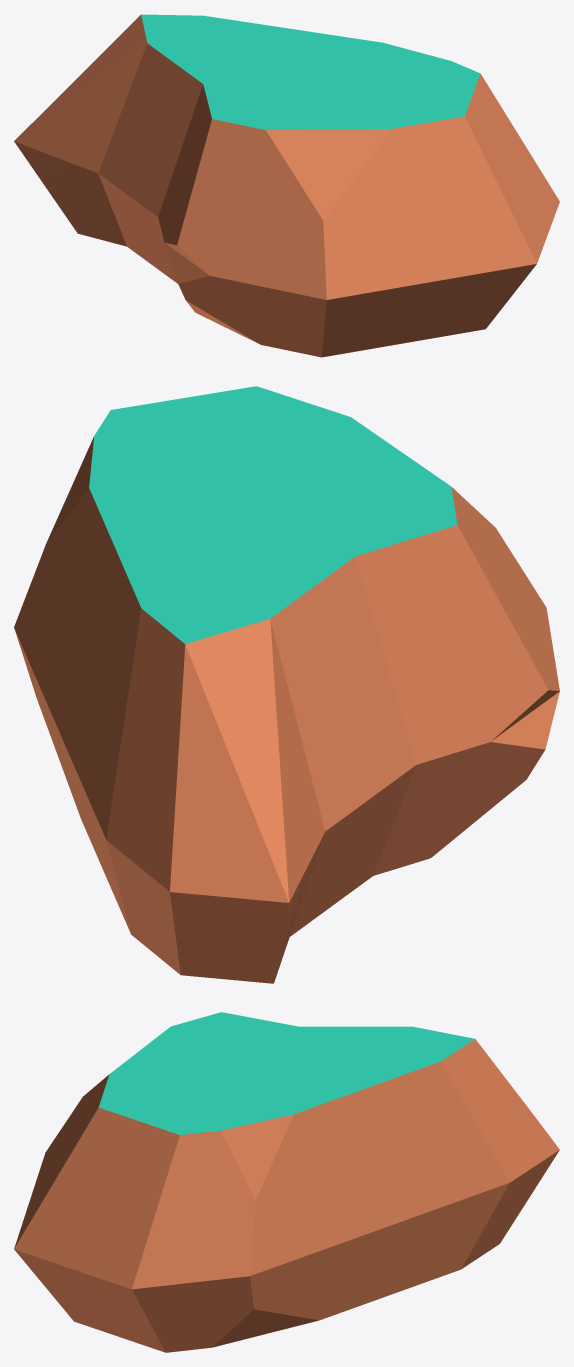
File: rock_largeB.obj
3 renders of one model, top to bottom at view 1: azimuth 30°, elevation 25°; view 2: azimuth 150°, elevation 25°; view 3: azimuth 270°, elevation 25°, orthographic. The views are drawn at different scales.
Size of the model in its own units: 0.7667 by 0.4303 by 1.02.
